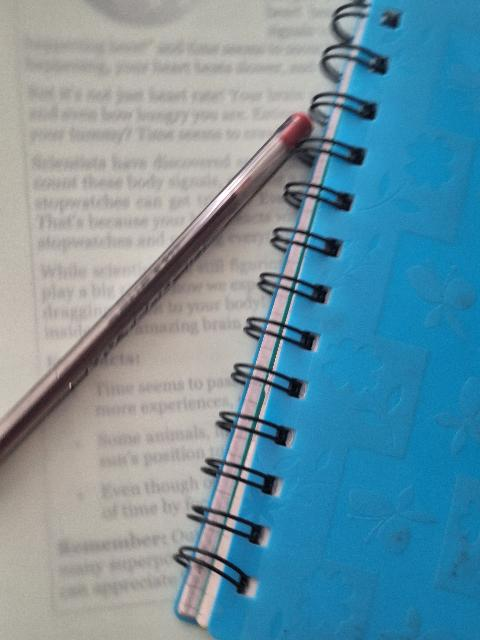writing_tool: (0, 114, 318, 456)
